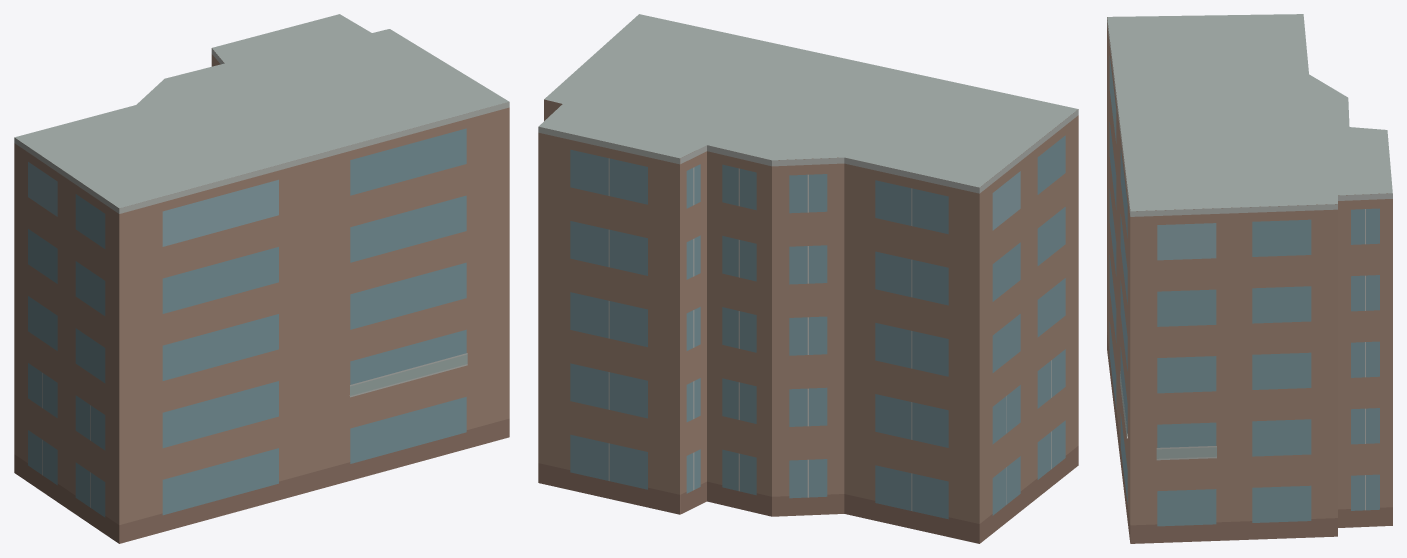
Rendered from survey-upis-32934898.glb.
3 renders of one model, left to right at view 1: azimuth 30°, elevation 25°; view 2: azimuth 150°, elevation 25°; view 3: azimuth 270°, elevation 25°, orthographic. The views are drawn at different scales.
Visible parts, largest first — view 1: survey-upis-32934898.tmp; view 2: survey-upis-32934898.tmp; view 3: survey-upis-32934898.tmp.
Part boxes in pixels (<box>): survey-upis-32934898.tmp: <box>14,14,509,543</box>; survey-upis-32934898.tmp: <box>538,14,1078,543</box>; survey-upis-32934898.tmp: <box>1107,14,1392,543</box>.
Size of the model in its own units: 18.33 by 14.4 by 11.22.
